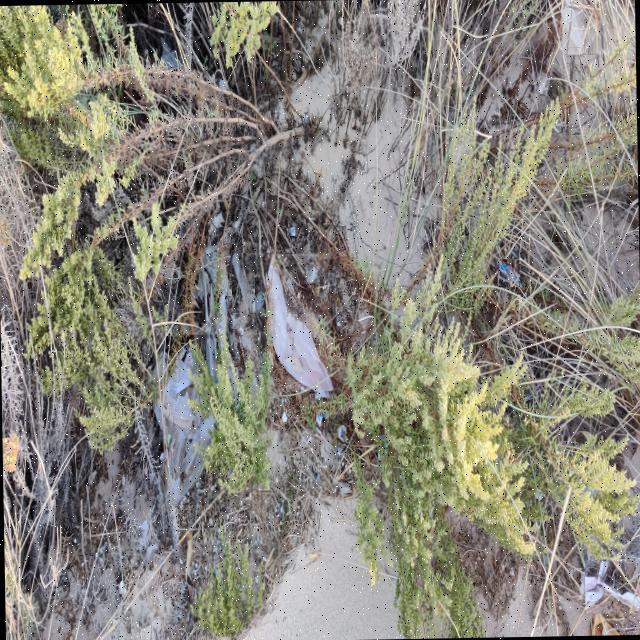Plastic film: (585, 560, 640, 612), (562, 0, 600, 53), (232, 253, 255, 311), (339, 425, 345, 443), (287, 227, 296, 235)
Unlabeled litter: (152, 335, 218, 505), (265, 254, 332, 391), (497, 259, 519, 286), (316, 410, 328, 427), (538, 77, 547, 92)
